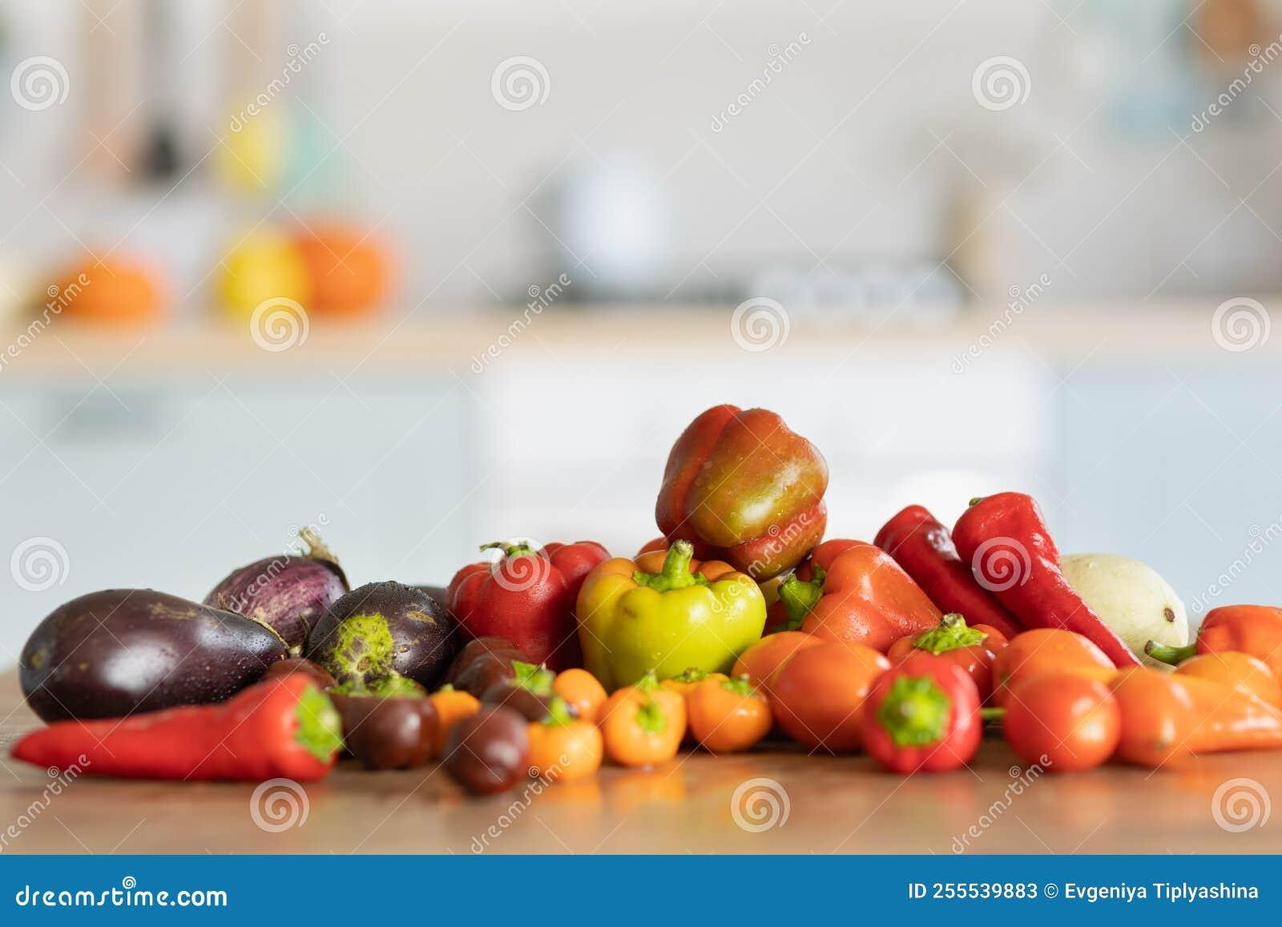bel peppers: (439, 539, 795, 685)
chillies: (6, 678, 377, 789)
tomato: (1002, 628, 1235, 774)
